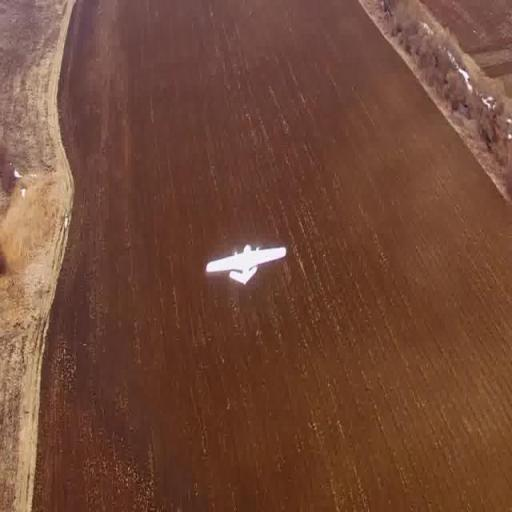uav: (202, 240, 292, 296)
